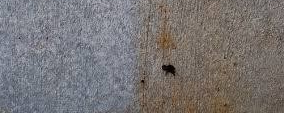Spalling: (160, 63, 177, 77)
